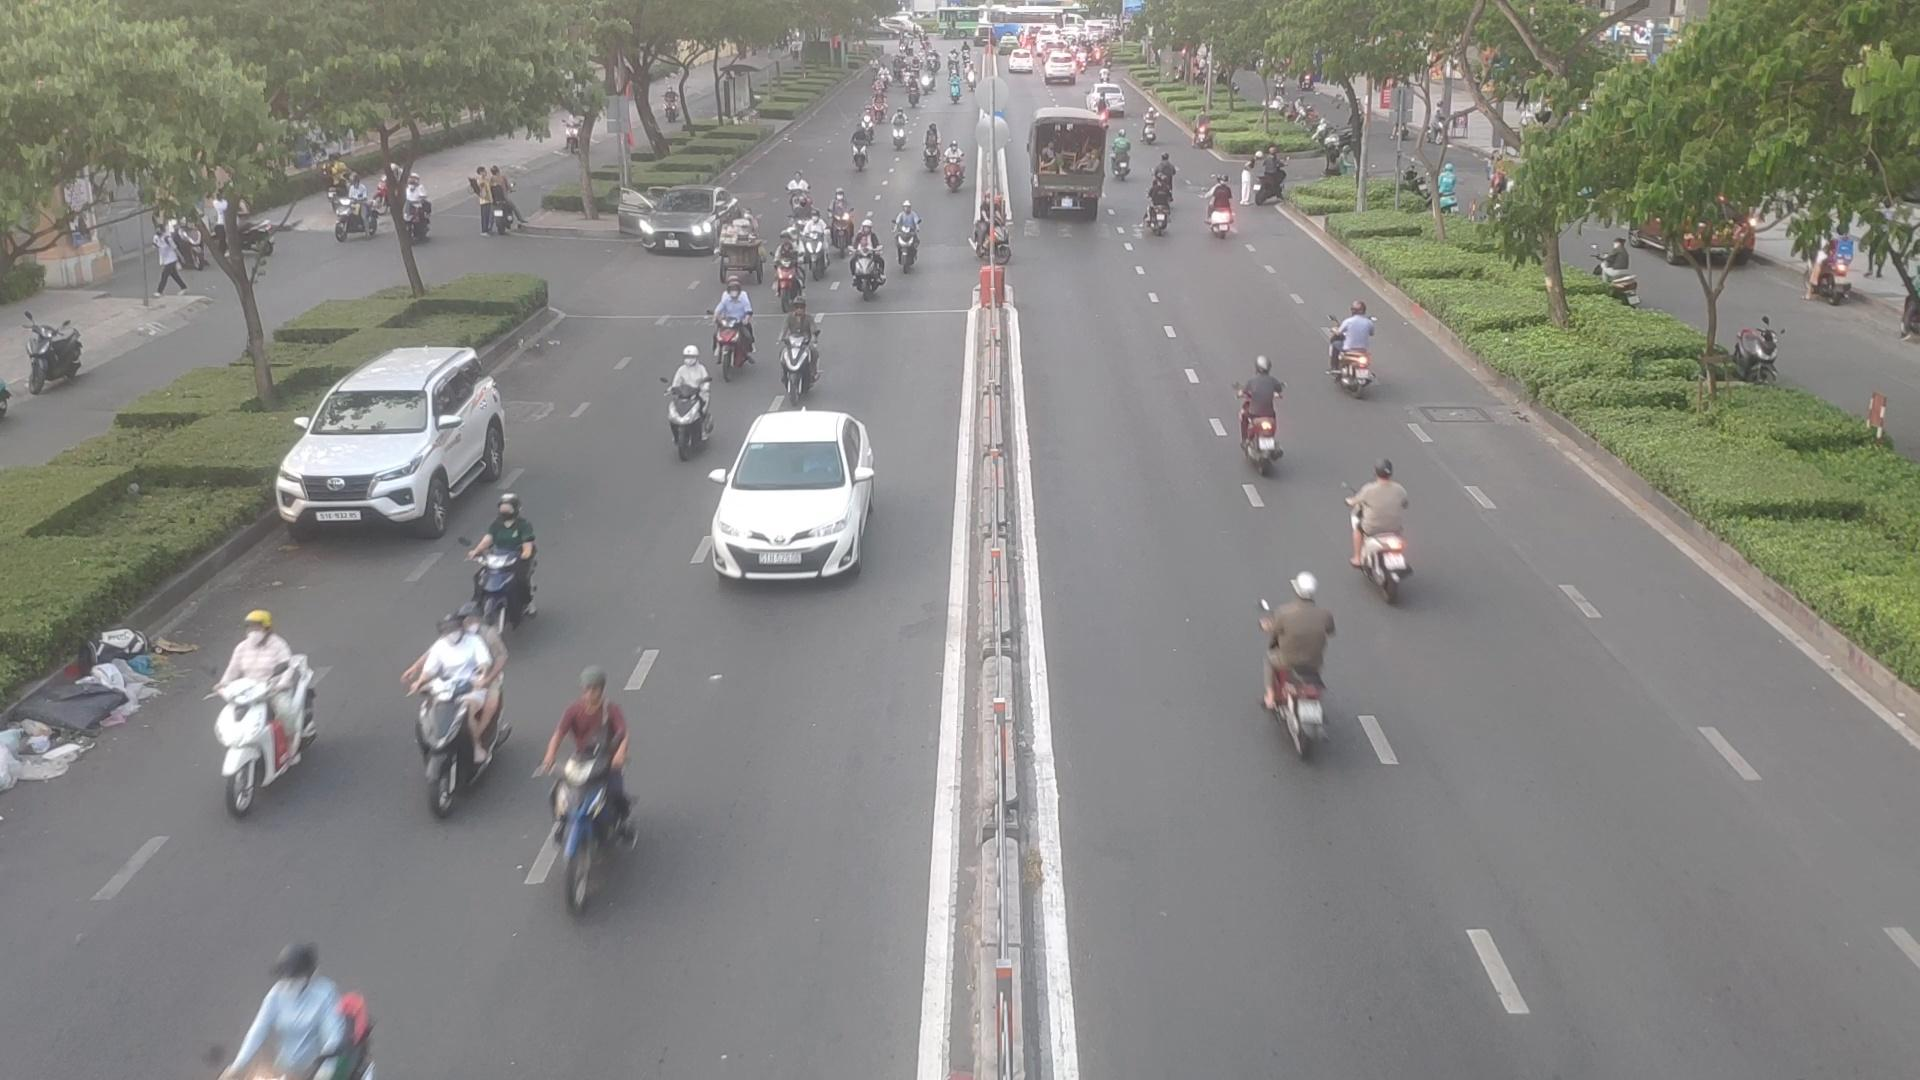car: (280, 349, 525, 541), (696, 409, 887, 579), (615, 191, 736, 260)
motorbike: (526, 704, 659, 913), (199, 615, 327, 811), (206, 953, 371, 1080), (407, 620, 512, 807), (1244, 578, 1342, 754), (1342, 464, 1422, 596), (464, 493, 550, 612), (1232, 359, 1288, 469), (655, 345, 717, 444), (1325, 303, 1387, 388), (709, 290, 761, 373), (785, 301, 829, 390), (847, 240, 886, 299), (887, 208, 922, 272), (1209, 182, 1245, 240), (1146, 191, 1178, 236), (943, 145, 971, 193), (885, 117, 910, 152)
